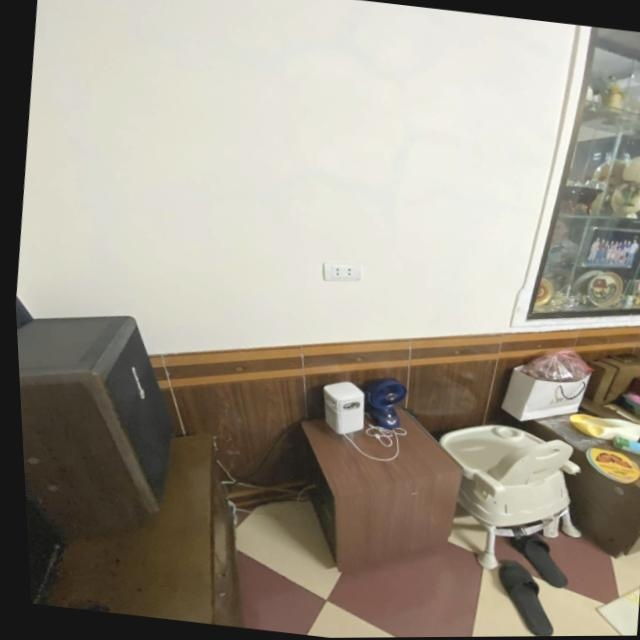outlet: (320, 259, 363, 284)
